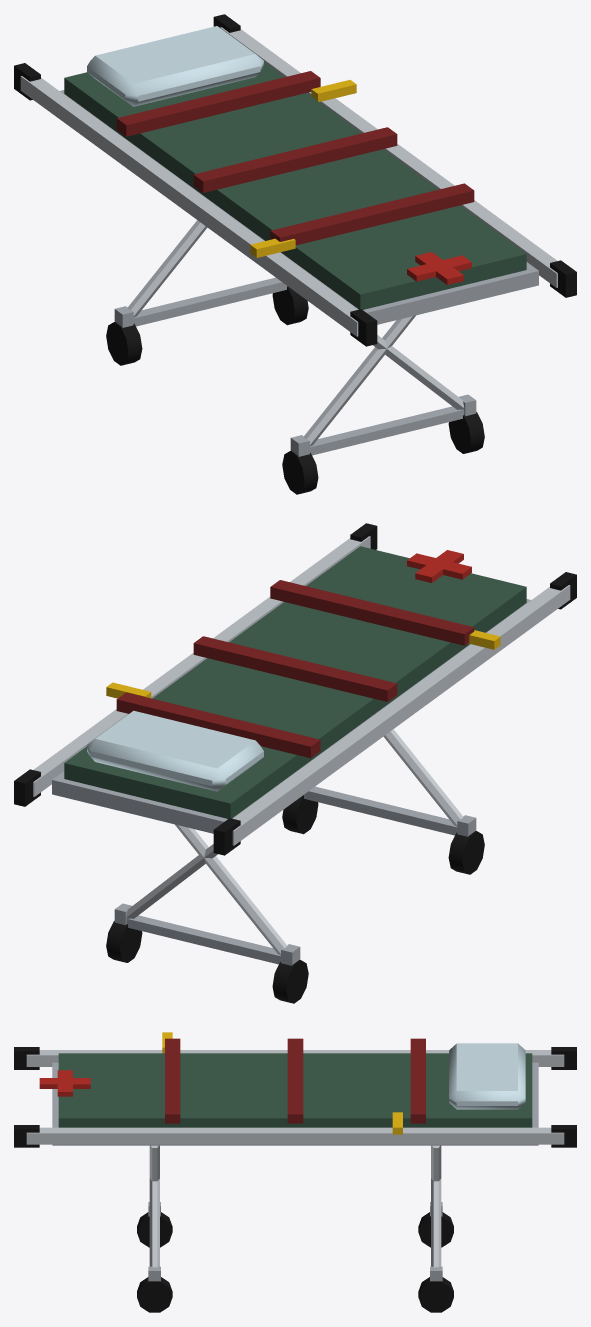
The model's file is medbed_field_stretcher.glb.
The picture shows the model from 3 angles, top to bottom: view 1: azimuth 30°, elevation 25°; view 2: azimuth 150°, elevation 25°; view 3: azimuth 270°, elevation 25°; orthographic projection. The views are drawn at different scales.
Parts seen in each view (by area): view 1: medbed_field_stretcher; view 2: medbed_field_stretcher; view 3: medbed_field_stretcher.
Part boxes in pixels (<box>): medbed_field_stretcher: <box>14,14,576,494</box>; medbed_field_stretcher: <box>14,523,576,1003</box>; medbed_field_stretcher: <box>14,1032,576,1312</box>.
Bounding box in the file's own units: 0.88 × 0.9066 × 2.2.
